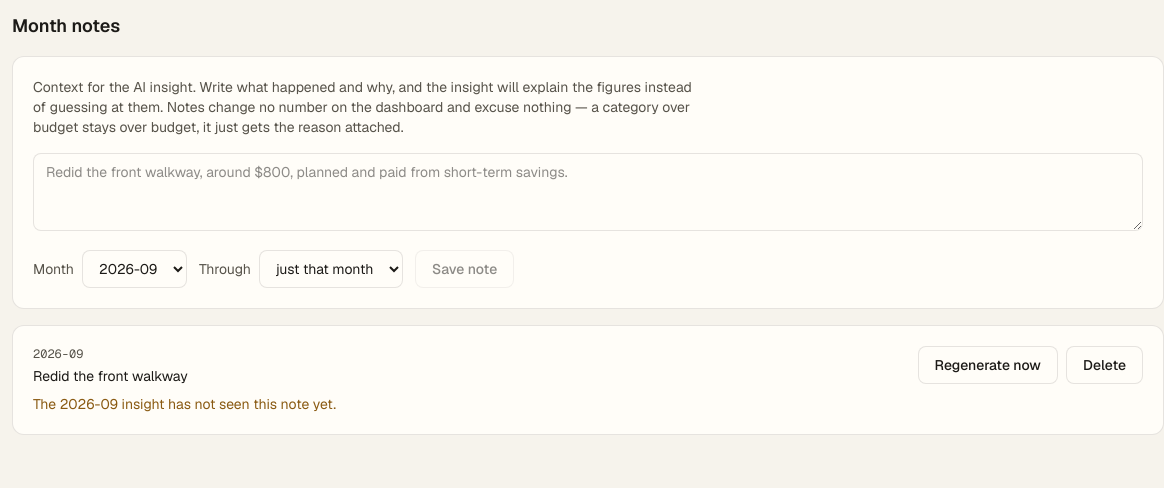
a wait where nothing ever answered does not claim the job is still running
expect the text "Redid the front walkway" is shown: met, box [33,367,188,385]
Click the button "Regenerate now" at (988, 365), box [918,346,1058,384]
Wait 122000 ms
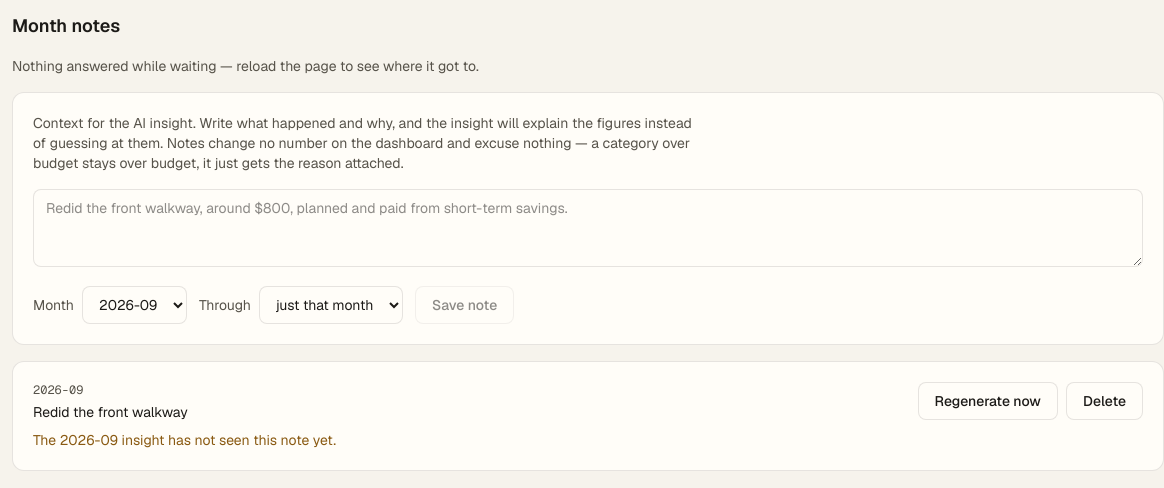
expect the text "Nothing answered while waiting — reload the page to see where it got to." is shown: met, box [12,57,479,75]
